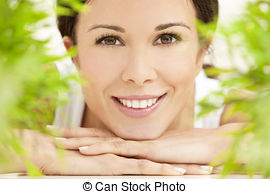face: (65, 1, 218, 146)
